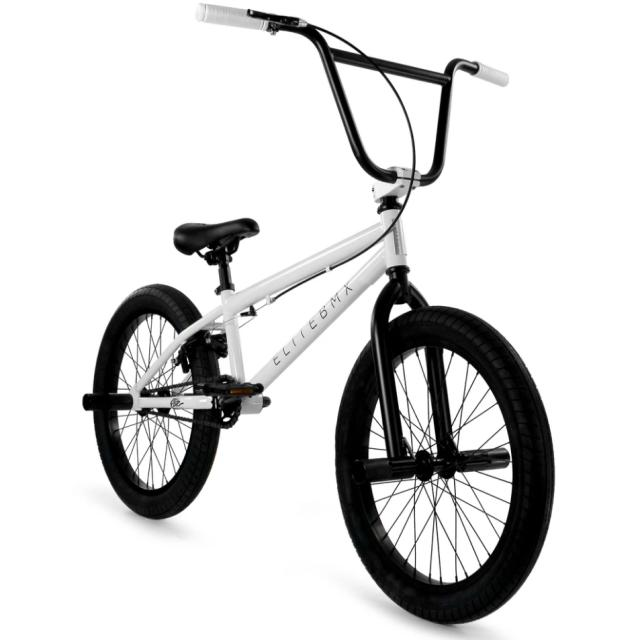bmx-bike: (80, 1, 557, 626)
